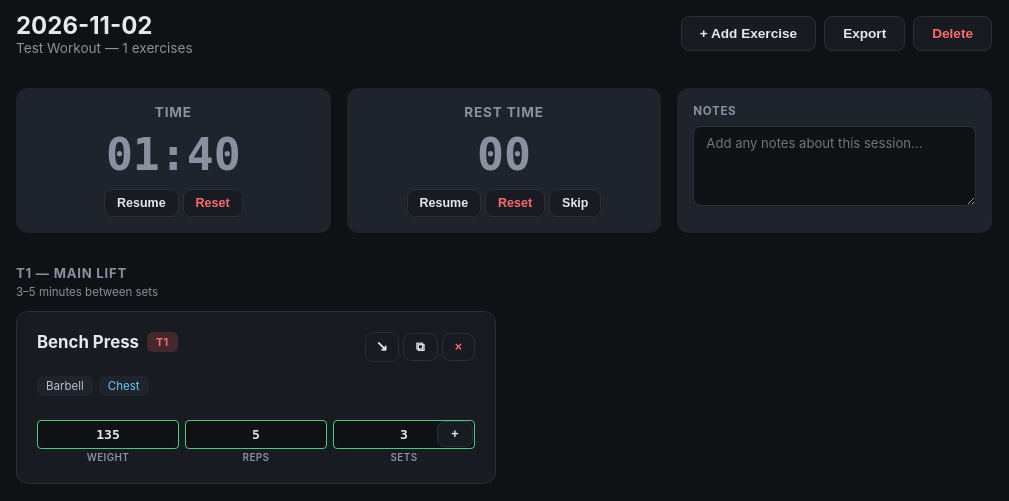
Test: session detail — equipment pill › shows no pill on a copy of a record explicitly marked as not barbell
The width and height of the screenshot is (1009, 501).
Expected: the text "Bench Press" is shown, x1=37 y1=332 x2=139 y2=352
What coordinates should you click on to do the following:
click the button titled "Duplicate exercise"
I would click on:
 (420, 347)
Its box is x1=403 y1=333 x2=438 y2=361.
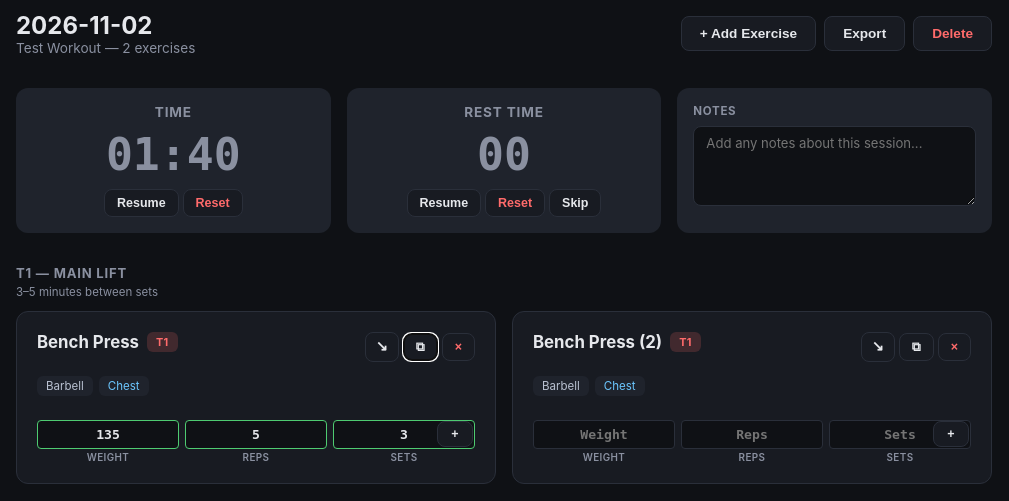
Expected: the text "Bench Press (2)" is shown, x1=533 y1=332 x2=662 y2=352
